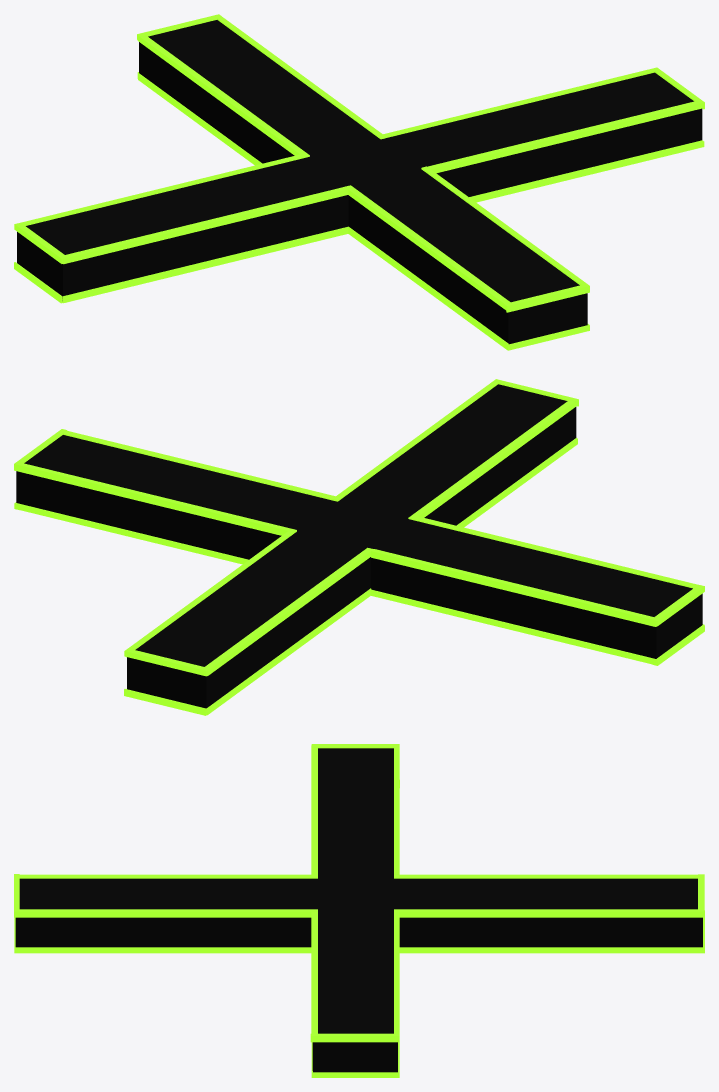
Rendered from XPiece.fbx.
The picture shows the model from 3 angles, top to bottom: view 1: azimuth 30°, elevation 25°; view 2: azimuth 150°, elevation 25°; view 3: azimuth 270°, elevation 25°; orthographic projection. The views are drawn at different scales.
Visible parts, largest first — view 1: Cube.011; view 2: Cube.011; view 3: Cube.011.
Boxes of the visible parts, x1,y1,x2,y2 form: Cube.011: (14, 14, 704, 350); Cube.011: (14, 379, 704, 715); Cube.011: (14, 744, 704, 1077).
Size of the model in its own units: 404 by 27.05 by 404.
